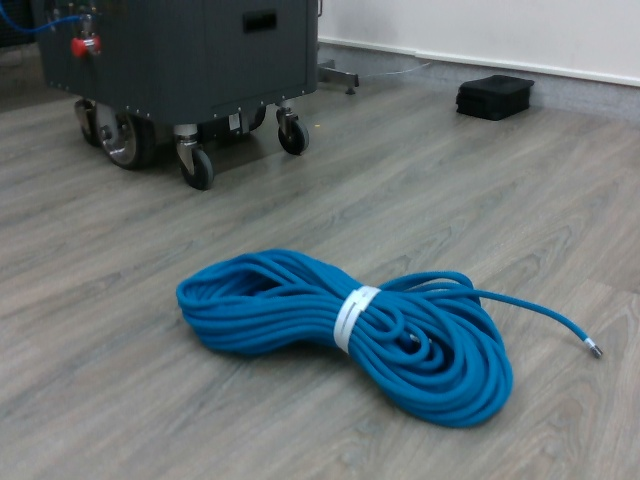rope: (172, 246, 607, 432)
